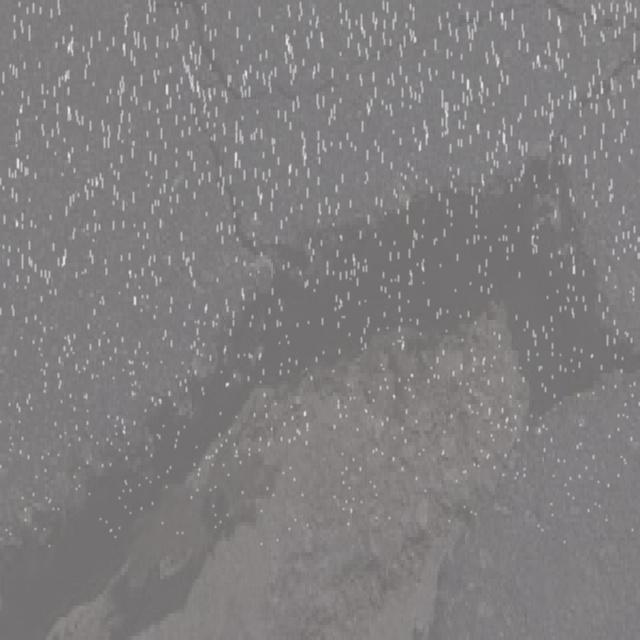Pothole: (0, 141, 624, 640)
